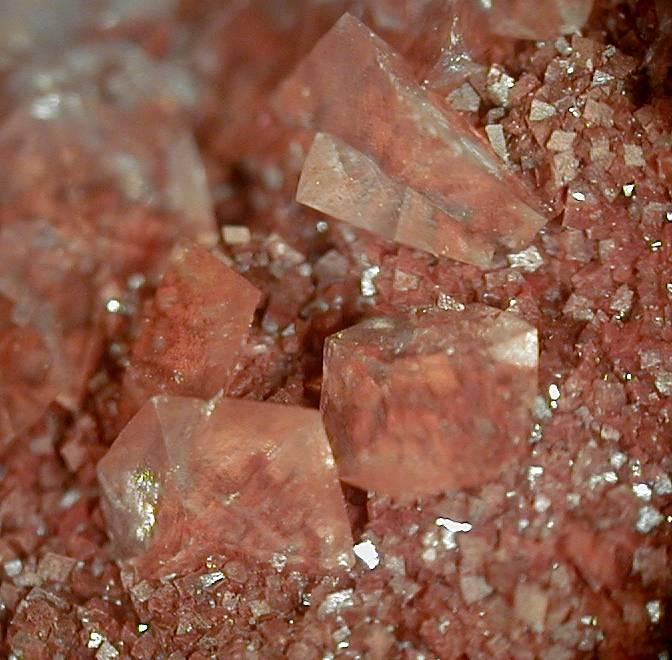calcite: (97, 247, 538, 574), (274, 14, 548, 268)
